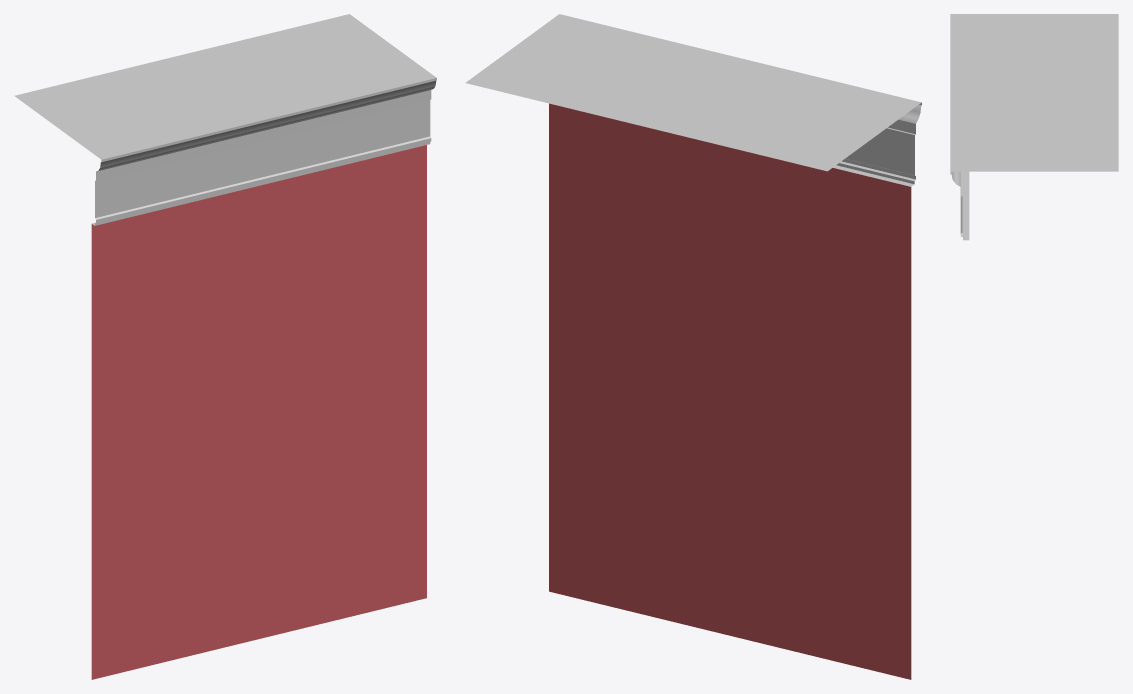
File: station_wall_small.fbx
The picture shows the model from 3 angles, left to right: view 1: azimuth 30°, elevation 25°; view 2: azimuth 150°, elevation 25°; view 3: azimuth 270°, elevation 25°; orthographic projection. The views are drawn at different scales.
Visible parts, largest first — view 1: wall_small; view 2: wall_small; view 3: wall_small.
Part boxes in pixels (x1,y1,x2,y2): wall_small: [14, 14, 436, 679]; wall_small: [465, 14, 921, 679]; wall_small: [950, 14, 1118, 240].
Size of the model in its own units: 1 by 1.5 by 0.4507.
